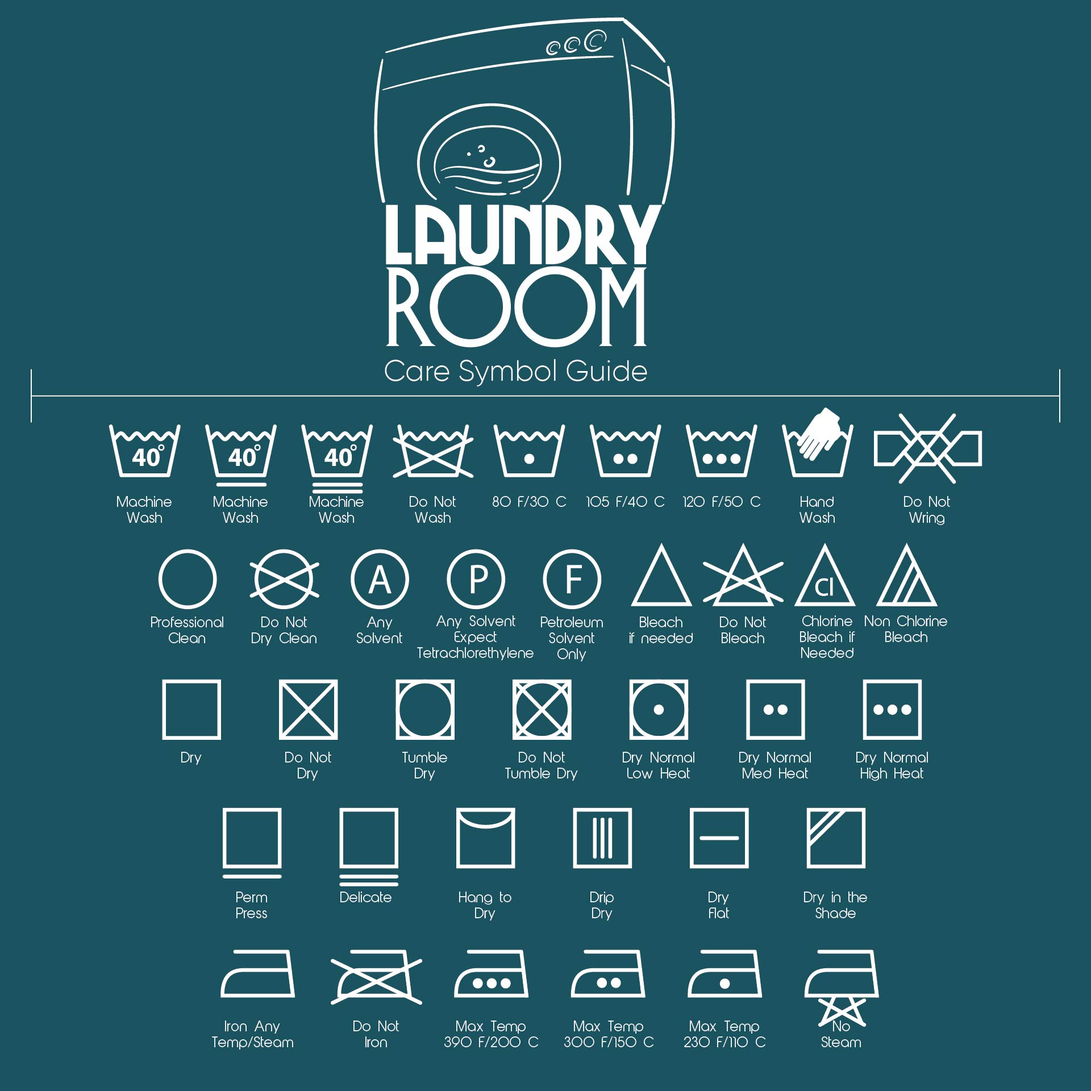ER_bleach: (619, 539, 698, 616)
ER_chlorine_bleach: (791, 541, 869, 613)
ER_dry_clean: (151, 543, 223, 614)
ER_dry_clean_chemical: (442, 544, 512, 614)
ER_dry_clean_hydrocarbon: (534, 542, 614, 615)
ER_dry_in_shade: (799, 803, 876, 874)
ER_flat_dry: (684, 803, 752, 876)
ER_hand_wash: (775, 401, 863, 484)
ER_iron: (216, 944, 301, 1005)
ER_iron_high_temp: (446, 940, 539, 1012)
ER_iron_low_temp: (680, 942, 769, 1005)
ER_iron_medium_temp: (568, 944, 650, 1003)
ER_natural_dry: (158, 672, 225, 746)
ER_no_bleach: (702, 540, 791, 609)
ER_no_dry_clean: (243, 542, 329, 614)
ER_no_iron: (323, 940, 428, 1014)
ER_no_tumble_dry: (509, 673, 578, 748)
ER_no_wash: (391, 415, 478, 488)
ER_non_chlorine_bleach: (868, 539, 948, 612)
ER_tumble_dry: (389, 671, 463, 748)
ER_tumble_dry_low_heat: (624, 673, 693, 744)
ER_wash_40: (101, 413, 188, 486)
ER_wash_40_mild: (198, 415, 286, 495), (298, 414, 382, 497)
